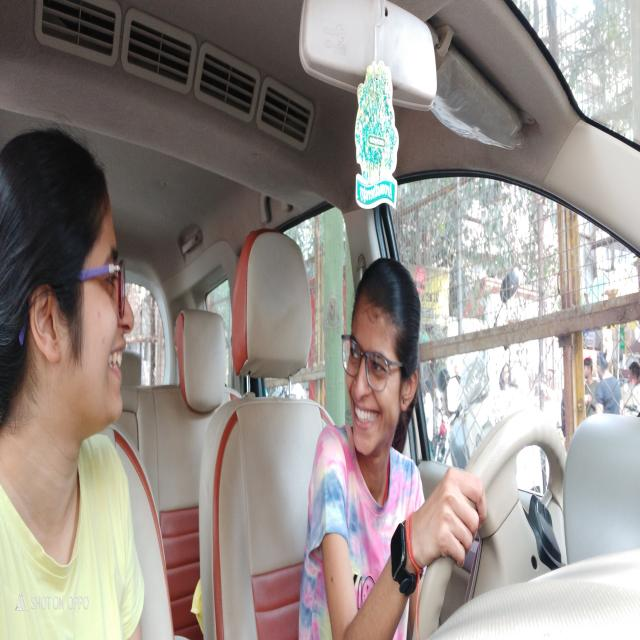LeftRight: (336, 255, 426, 464)
person: (0, 113, 138, 451)
talking: (350, 396, 384, 437), (106, 342, 129, 383)
